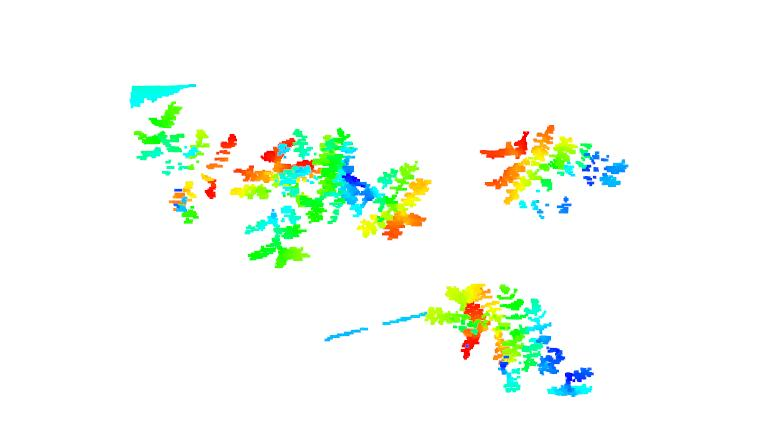chickpea: (113, 104, 234, 226), (317, 119, 435, 236), (476, 126, 632, 214), (236, 124, 317, 273), (487, 284, 563, 392), (413, 283, 487, 364), (551, 365, 609, 407)
